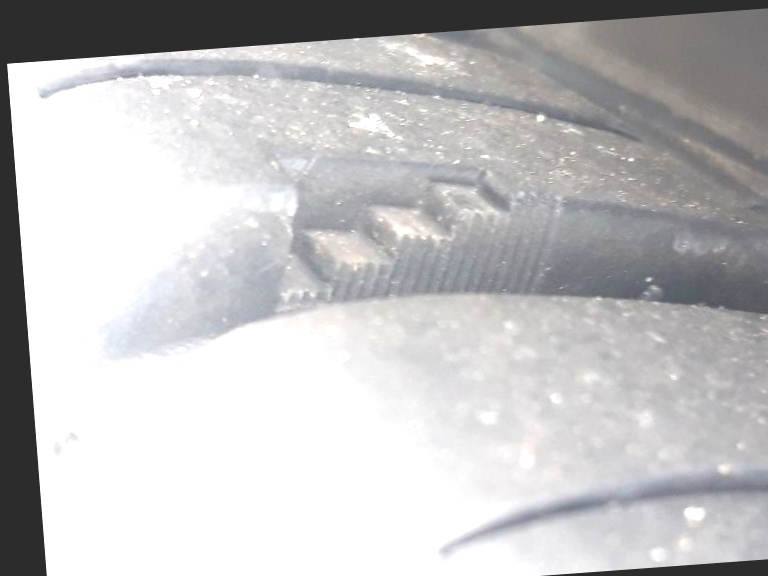temoin:90: (237, 124, 582, 333)
